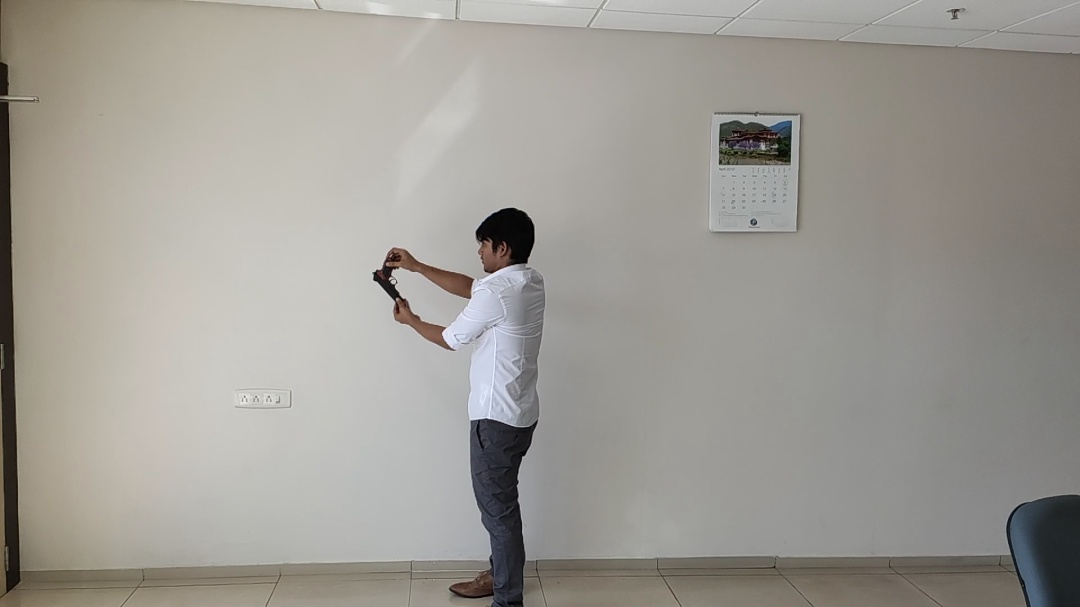gun: (348, 251, 773, 522)
